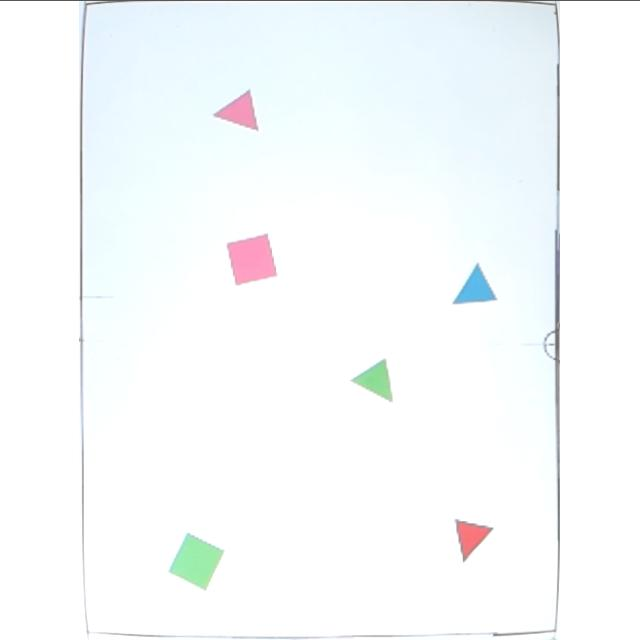blueTriangle: (452, 262, 501, 308)
greenSquare: (168, 530, 228, 590)
greenTriangle: (350, 355, 396, 407)
pinkSquare: (228, 232, 280, 288)
pinkTriangle: (214, 87, 262, 133)
redTriangle: (454, 516, 496, 564)
